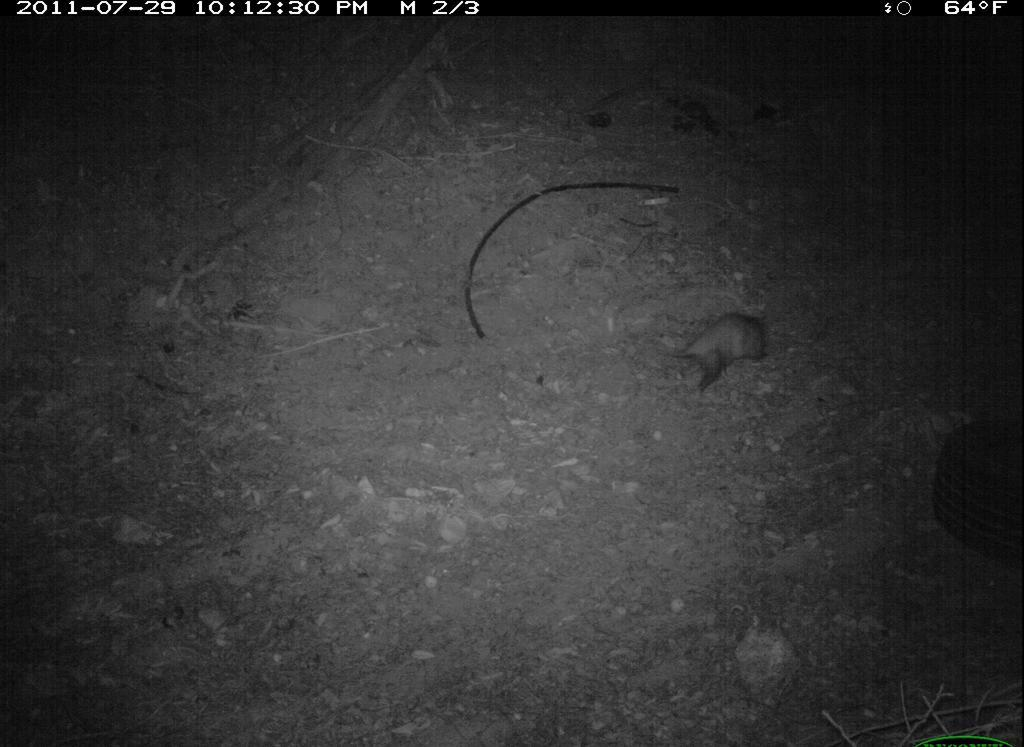opossum: (646, 300, 780, 401)
